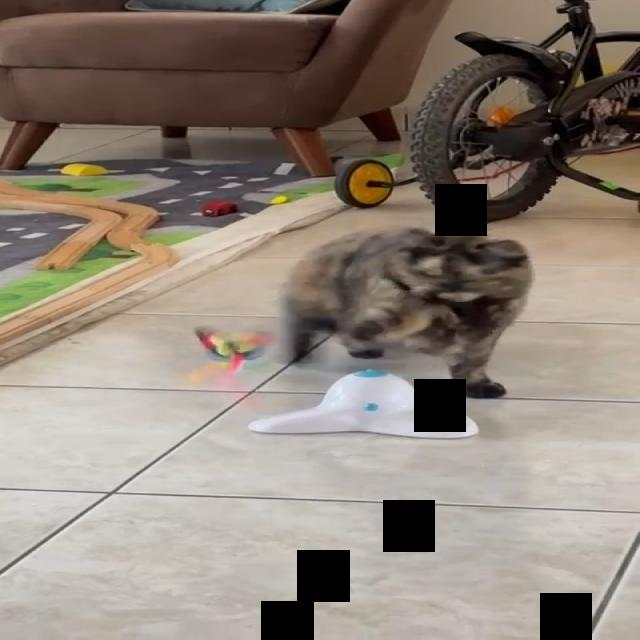authorized: (275, 225, 533, 398)
